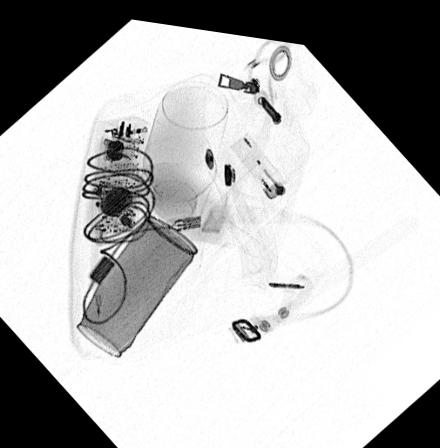Lighter: (230, 124, 292, 191)
